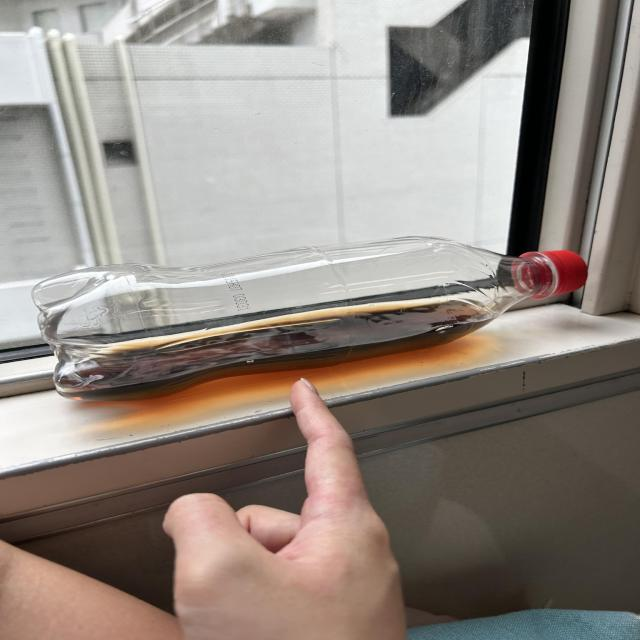low: (32, 236, 586, 401)
